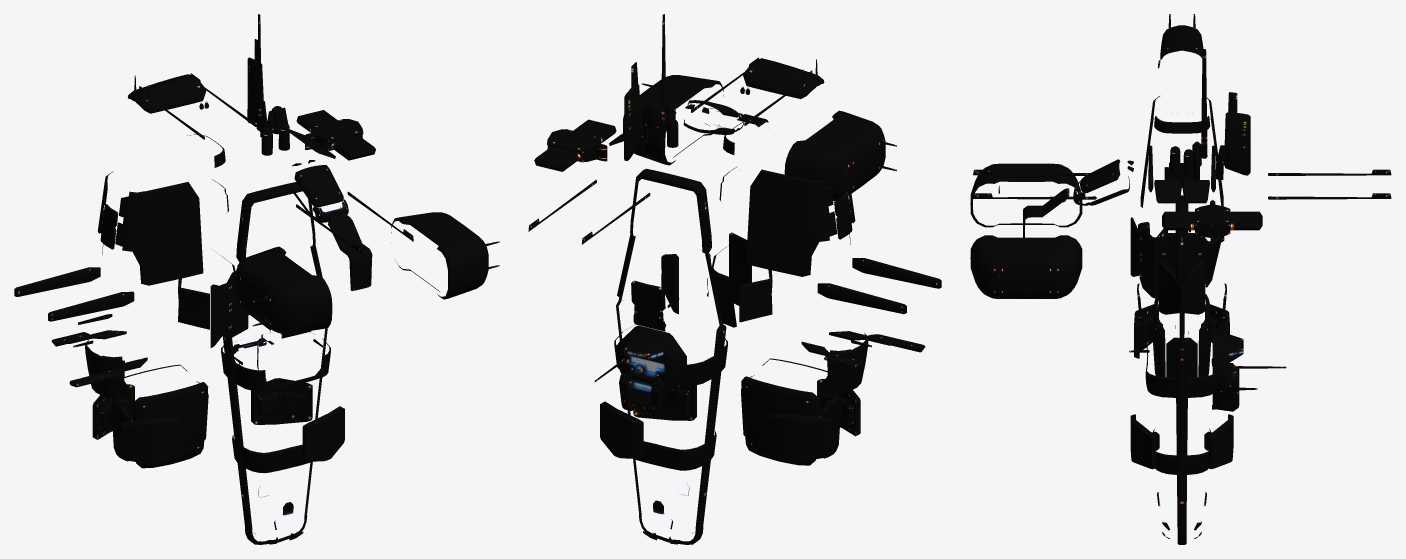
Rendered from yao_st_dock_04.glb.
3 views of the same model, side by side, from view 1: azimuth 30°, elevation 25°; view 2: azimuth 150°, elevation 25°; view 3: azimuth 270°, elevation 25° (orthographic). The views are drawn at different scales.
Parts seen in each view (by area): view 1: yao_station_04_base_LOD0, yao_station_04_parts_LOD0; view 2: yao_station_04_base_LOD0, yao_station_04_parts_LOD0; view 3: yao_station_04_base_LOD0, yao_station_04_parts_LOD0.
Part boxes in pixels (x1=…): yao_station_04_base_LOD0: x1=85, y1=74, x2=488, y2=544; yao_station_04_parts_LOD0: x1=14, y1=14, x2=499, y2=465; yao_station_04_base_LOD0: x1=614, y1=58, x2=885, y2=544; yao_station_04_parts_LOD0: x1=528, y1=14, x2=941, y2=462; yao_station_04_base_LOD0: x1=970, y1=25, x2=1226, y2=544; yao_station_04_parts_LOD0: x1=973, y1=14, x2=1391, y2=469.
Size of what is drawn, in the model's own units: 45.11 by 60.52 by 47.42.
Materials: 2 (2 with a texture image).
